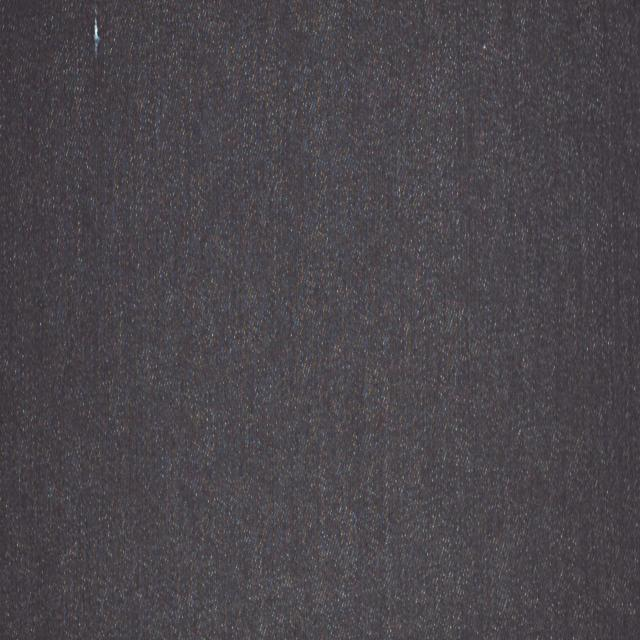Knot: (93, 7, 100, 56)
